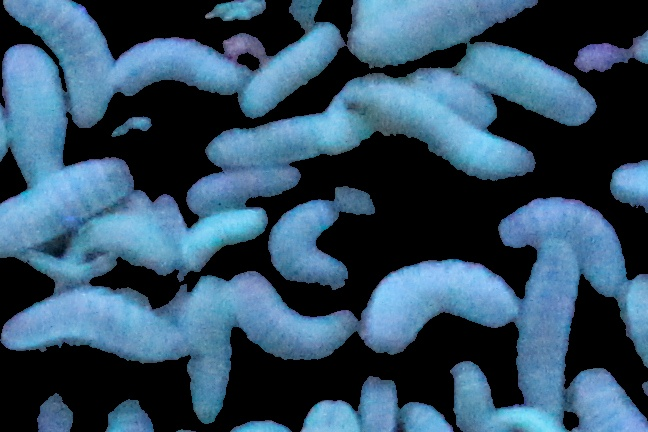larvae: (354, 77, 535, 179), (359, 257, 516, 353), (1, 1, 116, 126), (2, 287, 185, 362), (1, 156, 132, 259), (344, 1, 536, 68), (497, 197, 625, 294), (512, 240, 584, 407), (229, 273, 358, 362), (460, 42, 596, 126), (204, 110, 363, 173), (239, 24, 339, 118), (3, 45, 67, 178), (115, 36, 241, 96), (184, 275, 232, 425), (269, 201, 348, 292), (185, 163, 301, 211), (413, 65, 498, 128), (78, 218, 177, 272), (177, 208, 269, 266), (564, 364, 640, 432), (570, 365, 647, 432), (444, 358, 497, 432), (23, 246, 119, 285), (614, 272, 648, 378), (494, 398, 571, 432), (361, 374, 400, 432), (396, 398, 458, 432), (306, 394, 360, 432)
